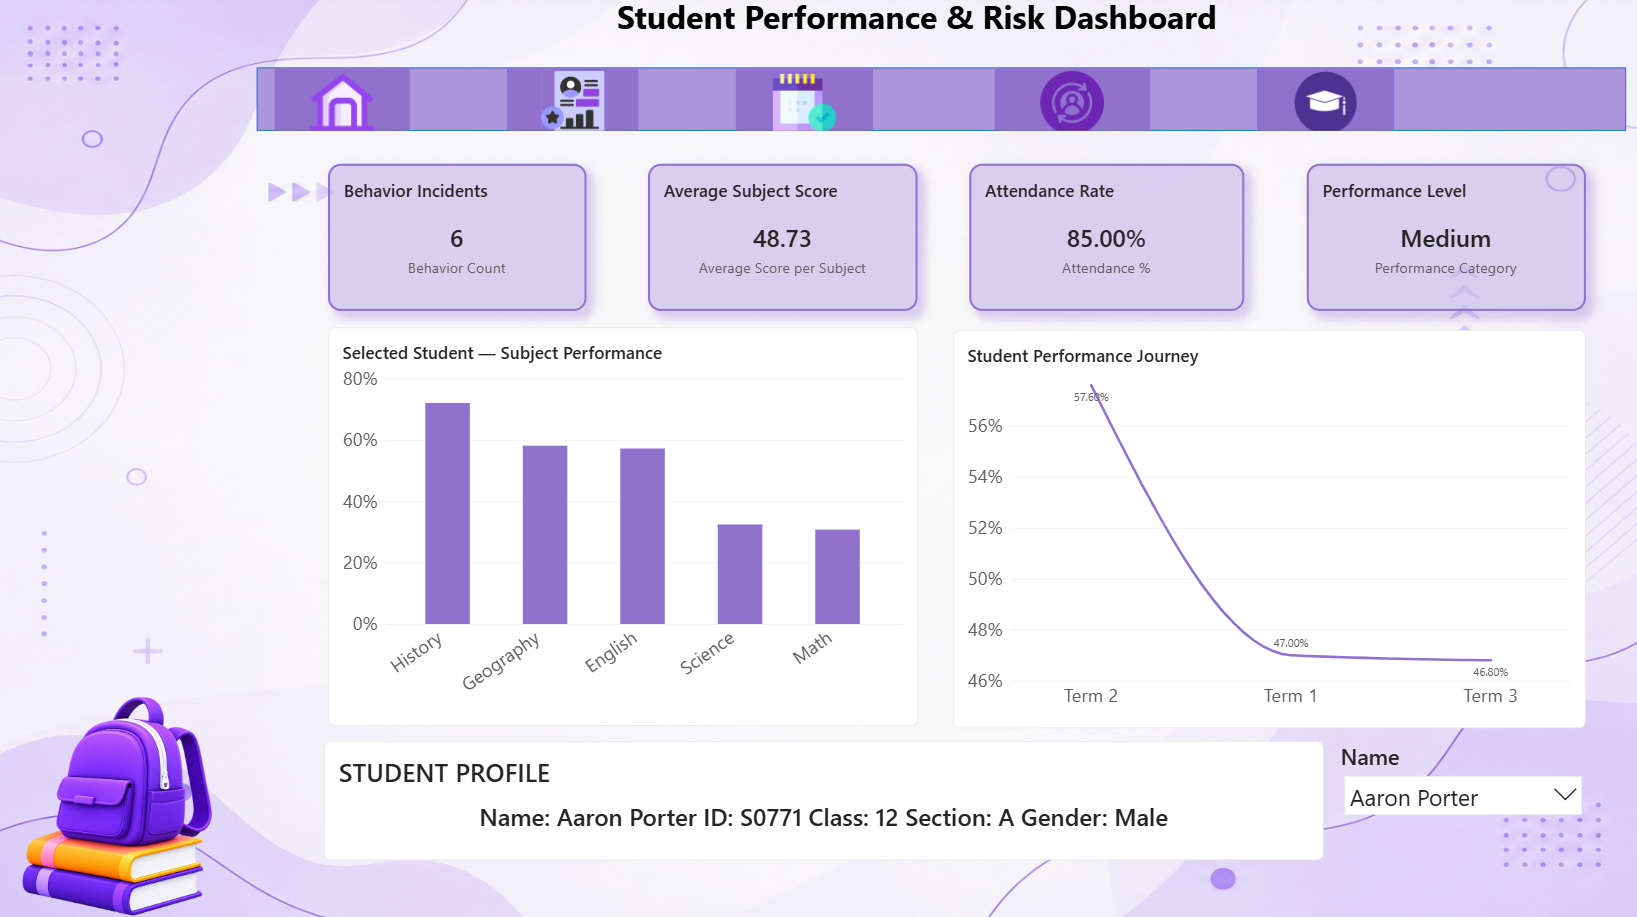

Layout of this report page (visuals, bound fields, positions):
{"tool":"powerbi","page":{"name":"STUDENT 360° & RISK ANALYSIS","canvas":[1920,1080],"ordinal":4},"visuals":[{"type":"card","title":"Attendance Rate","fields":{"Values":["MEASURES (2).Attendance %"]},"box":[1136.2,196.9,320.3,171],"z":0},{"type":"card","title":"Average Subject Score","fields":{"Values":["MEASURES (2).Average Score per Subject"]},"box":[761.8,196.9,313.8,171],"z":1000},{"type":"card","title":"Behavior Incidents","fields":{"Values":["MEASURES (2).Behavior Count"]},"box":[389.5,196.9,300.8,171],"z":2000},{"type":"card","title":"Performance Level","fields":{"Values":["MEASURES (2).Performance Category"]},"box":[1527.9,196.9,324.6,171],"z":3000},{"type":"clusteredColumnChart","title":"Selected Student — Subject Performance","fields":{"Category":["Scores.Subject"],"Y":["MEASURES (2).Average Score %"]},"box":[389.5,387.4,686,463.1],"z":4000},{"type":"lineChart","title":"Student Performance Journey","fields":{"Category":["Scores.Term"],"Y":["MEASURES (2).Average Score %"]},"box":[1116.7,389.5,735.8,463.1],"z":5000},{"type":"card","title":"STUDENT PROFILE","fields":{"Values":["MEASURES (2).Student Profile Card"]},"box":[385.2,867.8,1162.1,138.5],"z":6000},{"type":"slicer","title":"Name","fields":{"Values":["Students.Name"]},"box":[1566.8,867.8,285.7,95.2],"z":7000},{"type":"textbox","box":[681.7,0,785.6,69.3],"z":8000},{"type":"image","box":[0,811.6,281.3,268.4],"z":9000},{"type":"shape","box":[307.3,84.4,1592.8,73.6],"z":10000},{"type":"actionButton","box":[326.8,84.4,158,73.6],"z":11000},{"type":"actionButton","box":[597.3,84.4,153.7,73.6],"z":12000},{"type":"actionButton","box":[863.5,84.4,160.1,73.6],"z":13000},{"type":"actionButton","box":[1164.3,84.4,181.8,73.6],"z":13001},{"type":"actionButton","box":[1469.5,84.4,160.1,73.6],"z":13002}]}

Visuals, with their boxes in screenshot pixels (x1, y1, x2, y2), scaled from the page's 1920x1080 canvas onto the 1637x917 screenshot:
"Attendance Rate" card: 969/167/1242/312
"Average Subject Score" card: 650/167/917/312
"Behavior Incidents" card: 332/167/589/312
"Performance Level" card: 1303/167/1579/312
"Selected Student — Subject Performance" clusteredColumnChart: 332/329/917/722
"Student Performance Journey" lineChart: 952/331/1579/724
"STUDENT PROFILE" card: 328/737/1319/854
"Name" slicer: 1336/737/1579/818
textbox: 581/0/1251/59
image: 0/689/240/916
shape: 262/72/1620/134
actionButton: 279/72/413/134
actionButton: 509/72/640/134
actionButton: 736/72/873/134
actionButton: 993/72/1148/134
actionButton: 1253/72/1389/134
